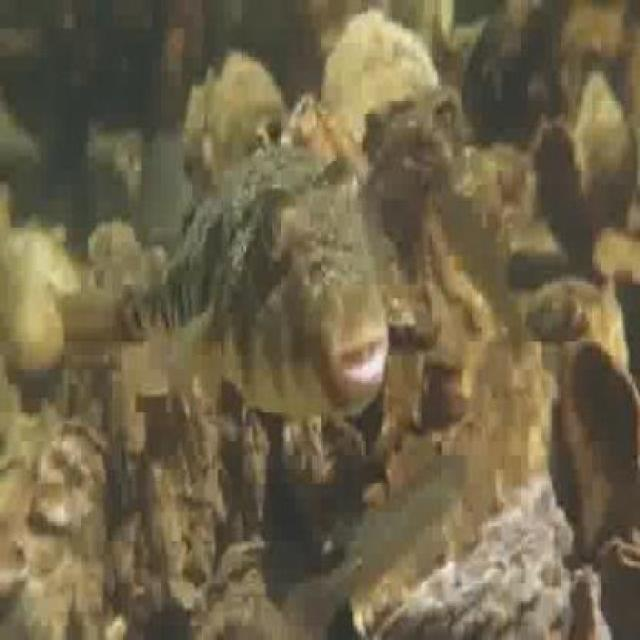Oyster-Closed: (197, 541, 328, 640), (418, 195, 499, 351), (33, 419, 110, 530), (600, 535, 640, 640)
Oyster-Indeterminate: (462, 277, 629, 510), (377, 479, 573, 640), (322, 11, 435, 130), (199, 59, 279, 187), (577, 76, 639, 224), (365, 112, 458, 199), (286, 94, 367, 180), (0, 270, 64, 372), (6, 229, 82, 295), (180, 84, 210, 199)
